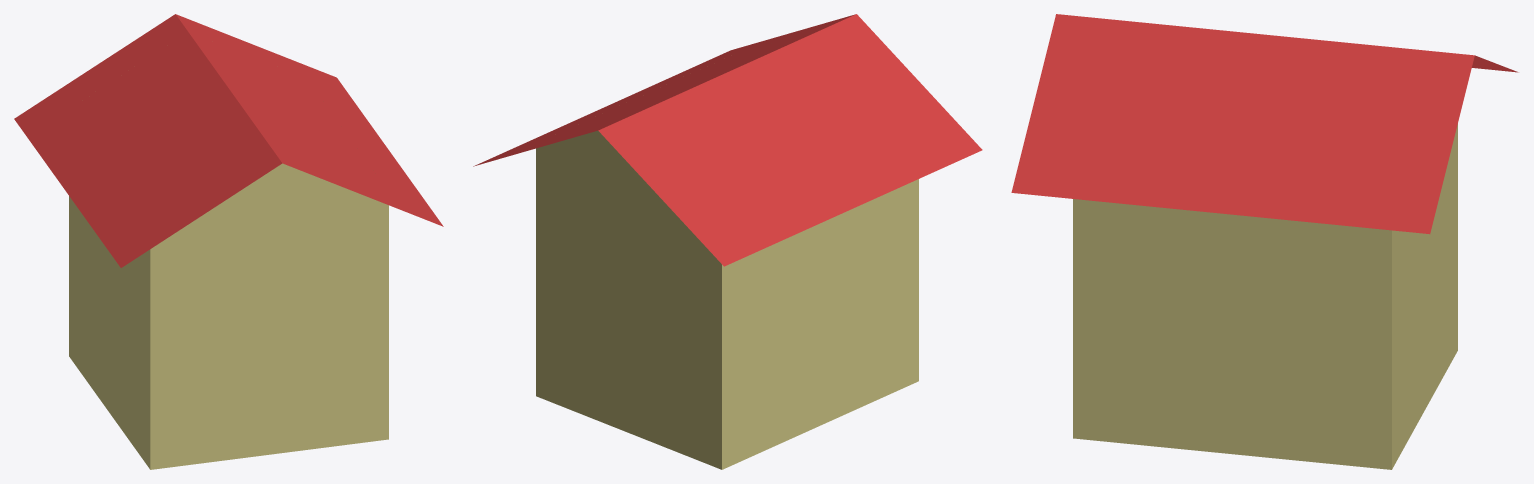
3 renders of one model, left to right at view 1: azimuth 30°, elevation 25°; view 2: azimuth 150°, elevation 25°; view 3: azimuth 270°, elevation 25°, orthographic. The views are drawn at different scales.
Parts seen in each view (by area): view 1: group_5, group_3, group_4; view 2: group_5, group_3, group_4; view 3: group_5, group_3, group_4.
Part boxes in pixels (x1=…): group_5: x1=69, y1=163, x2=388, y2=469; group_3: x1=14, y1=14, x2=388, y2=267; group_4: x1=14, y1=14, x2=443, y2=226; group_5: x1=536, y1=130, x2=918, y2=469; group_3: x1=537, y1=14, x2=982, y2=266; group_4: x1=473, y1=14, x2=864, y2=266; group_5: x1=1073, y1=124, x2=1457, y2=469; group_3: x1=1015, y1=14, x2=1518, y2=234; group_4: x1=1011, y1=14, x2=1515, y2=233.
Bounding box in the file's own units: 14.06 × 14.87 × 11.62.
